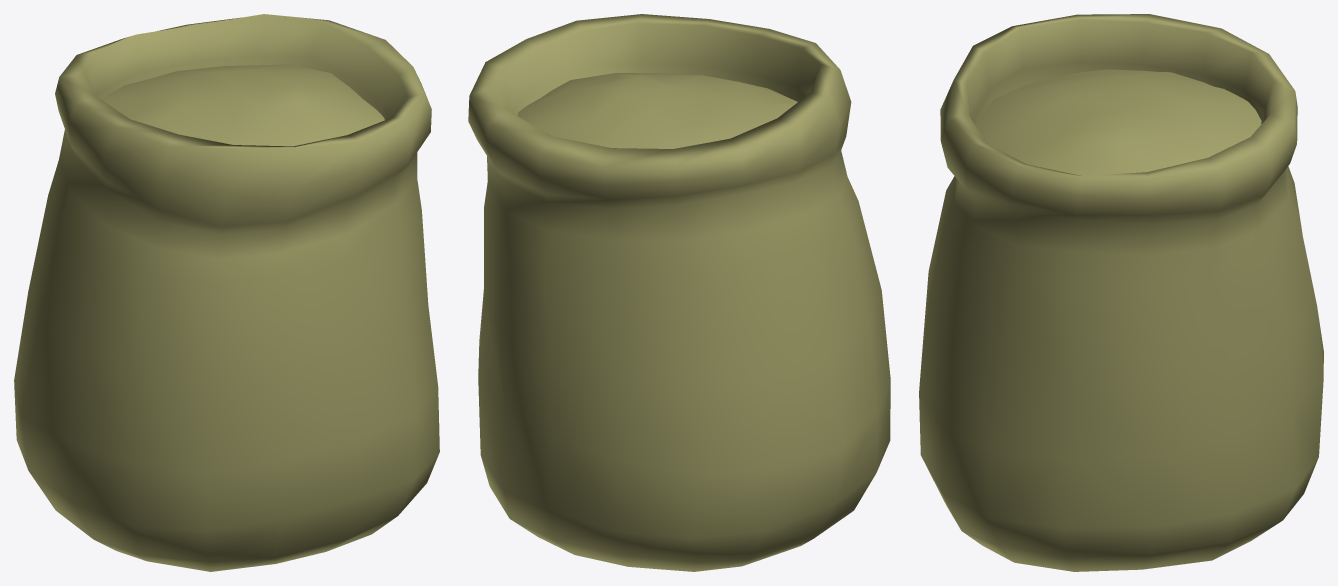
The model's file is Bag_Open_01_Lod1.fbx.
3 views of the same model, side by side, from view 1: azimuth 30°, elevation 25°; view 2: azimuth 150°, elevation 25°; view 3: azimuth 270°, elevation 25° (orthographic).
Visible parts, largest first — view 1: Bag_Open_01_Lod1; view 2: Bag_Open_01_Lod1; view 3: Bag_Open_01_Lod1.
Boxes of the visible parts, <box> form: Bag_Open_01_Lod1: <box>14,14,439,571</box>; Bag_Open_01_Lod1: <box>468,14,890,571</box>; Bag_Open_01_Lod1: <box>919,14,1323,571</box>.
Bounding box in the file's own units: 47.86 × 55.34 × 45.88.
